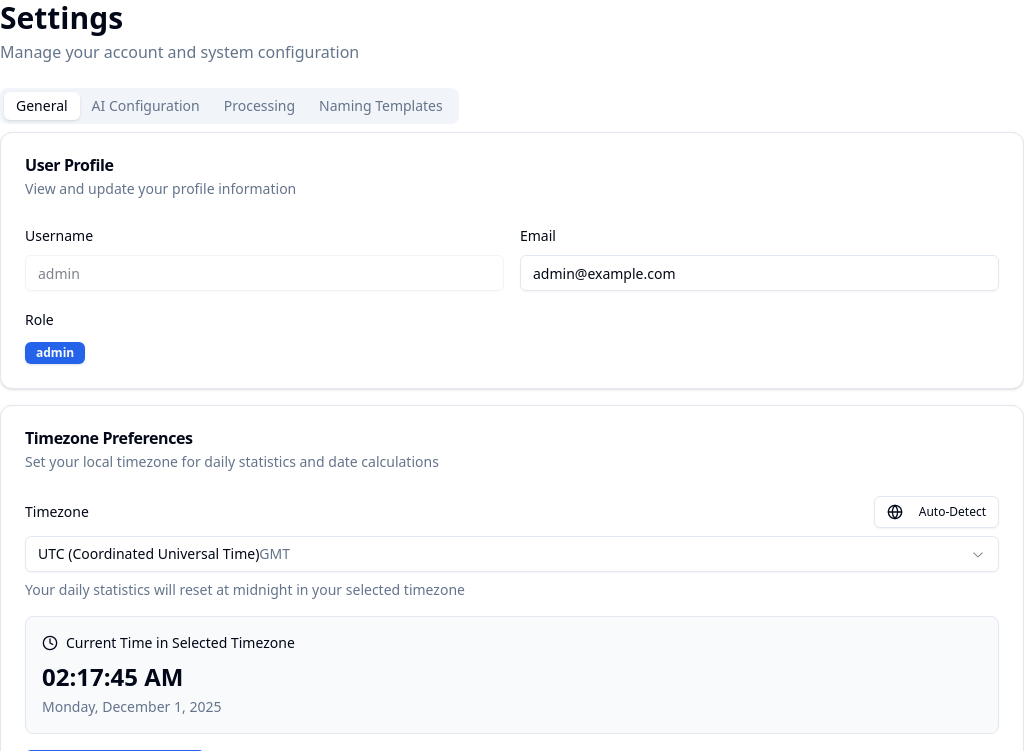
SettingsPage › switches between tabs
This screenshot has width=1024, height=751.
Step 1. Click the button "Naming Templates" → coordinates (381, 106), box [307,92,455,120]
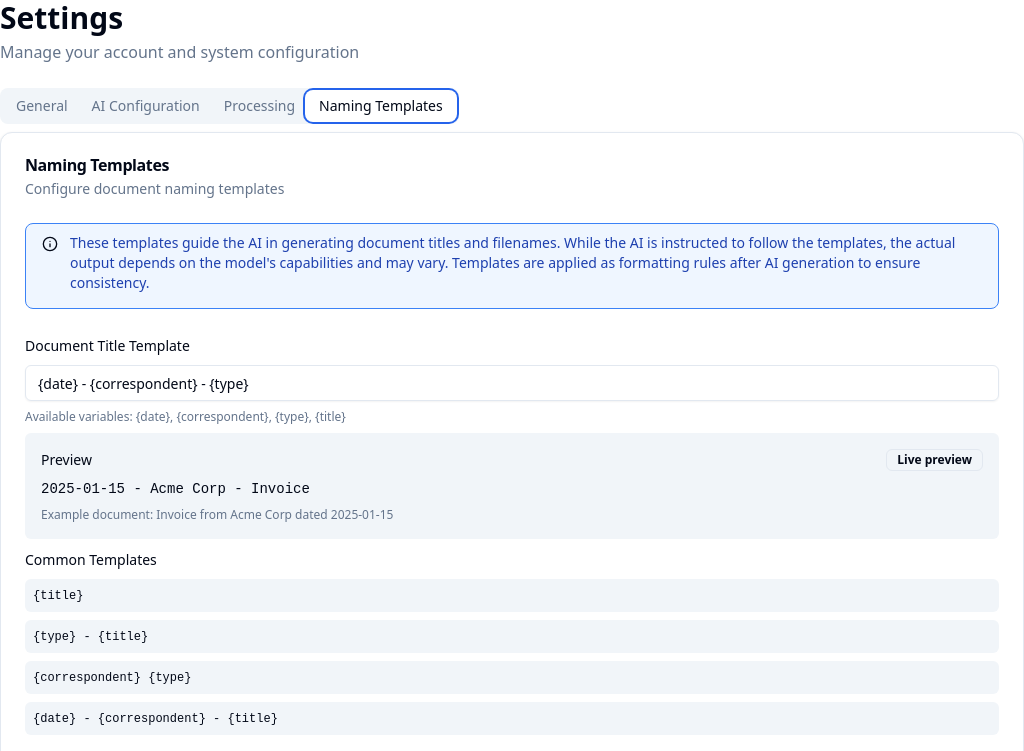
Now the text "Document Title Template" is shown, box [25,336,190,355]
